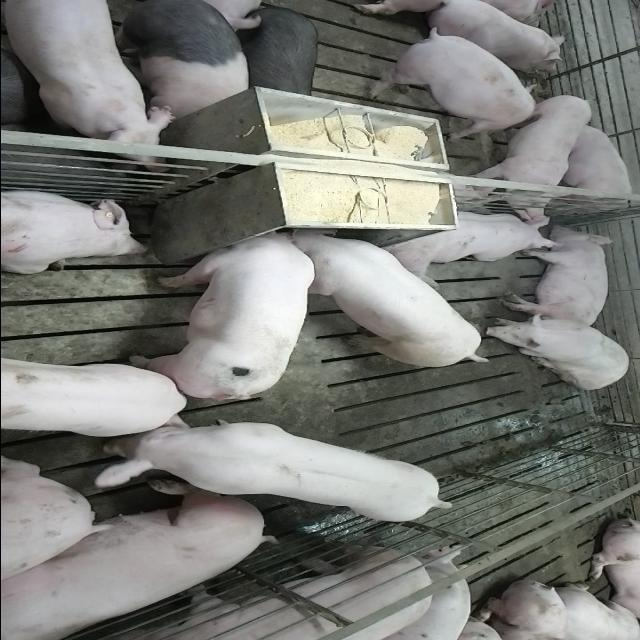Feeding: (128, 222, 314, 396), (282, 229, 498, 373)
Lateral_lying: (0, 490, 274, 636), (501, 224, 616, 330)
Sitting: (481, 312, 631, 390)
Standing: (0, 542, 442, 640), (82, 418, 450, 524), (0, 2, 176, 153), (98, 1, 260, 120), (367, 27, 537, 139), (1, 352, 184, 443), (464, 94, 592, 222)
Sternal_lying: (381, 208, 561, 282), (0, 186, 150, 272), (420, 2, 568, 70), (549, 123, 635, 211)
